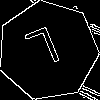L: (23, 26, 66, 79)
